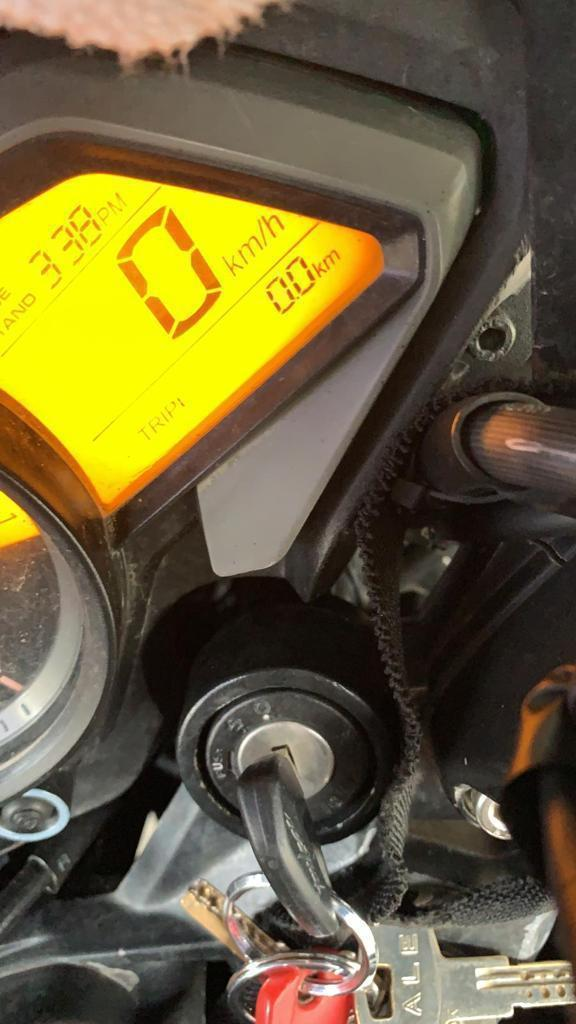,: (294, 294, 301, 302)
0: (113, 203, 223, 340), (284, 254, 316, 297), (263, 274, 296, 315)
1: (175, 395, 184, 408)
3: (27, 247, 64, 292), (48, 222, 86, 265)
8: (65, 203, 103, 248)
X: (236, 235, 264, 265), (260, 211, 285, 238), (105, 191, 128, 215), (221, 253, 243, 276), (321, 248, 341, 270), (255, 218, 268, 246), (95, 205, 111, 226), (310, 261, 328, 278), (147, 416, 164, 433), (163, 399, 177, 419), (20, 292, 36, 308), (137, 424, 152, 440), (9, 303, 25, 318), (1, 316, 16, 330), (158, 410, 170, 425), (0, 286, 11, 300)
odometer: (0, 172, 389, 556)
